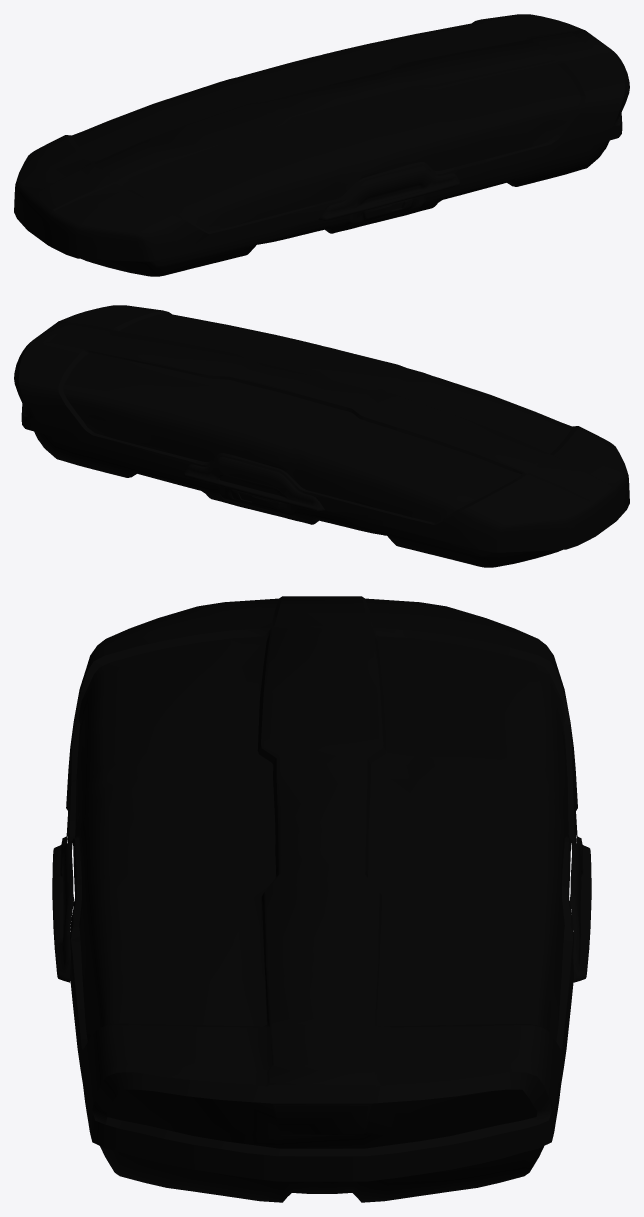
The model's file is 629500_Thule_Motion_XT_Alpine_Low_v20.glb.
The picture shows the model from 3 angles, top to bottom: view 1: azimuth 30°, elevation 25°; view 2: azimuth 150°, elevation 25°; view 3: azimuth 270°, elevation 25°; orthographic projection. The views are drawn at different scales.
Parts seen in each view (by area): view 1: Thule_motion_XT_Alpine_low; view 2: Thule_motion_XT_Alpine_low; view 3: Thule_motion_XT_Alpine_low.
Part boxes in pixels (left/top/right/bottom): Thule_motion_XT_Alpine_low: left=14, top=14, right=629, bottom=276; Thule_motion_XT_Alpine_low: left=14, top=305, right=629, bottom=567; Thule_motion_XT_Alpine_low: left=52, top=596, right=591, bottom=1202.
Bounding box in the file's own units: 0.1828 × 0.0276 × 0.0754.
2 materials, 2 textured.
